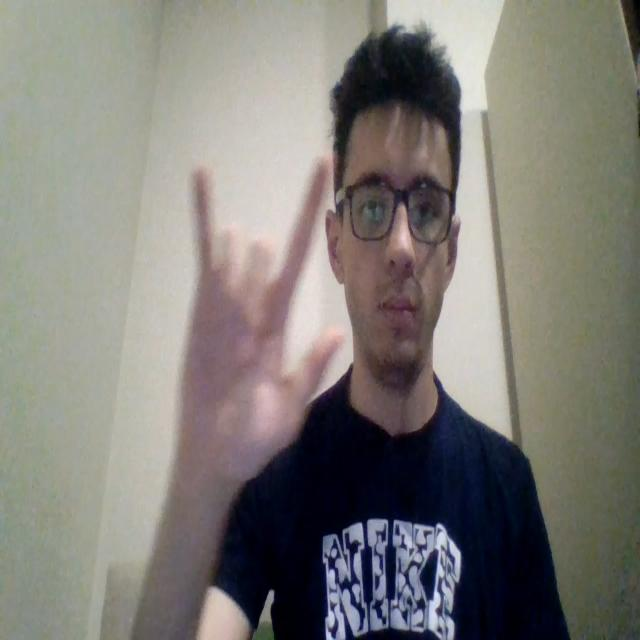iloveyou: (171, 154, 345, 480)
